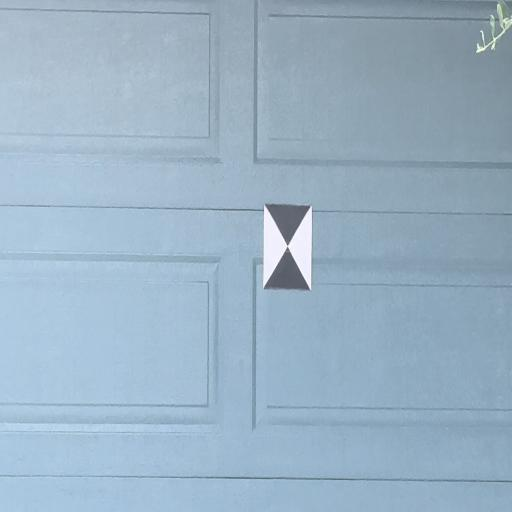target: (264, 205, 312, 289)
